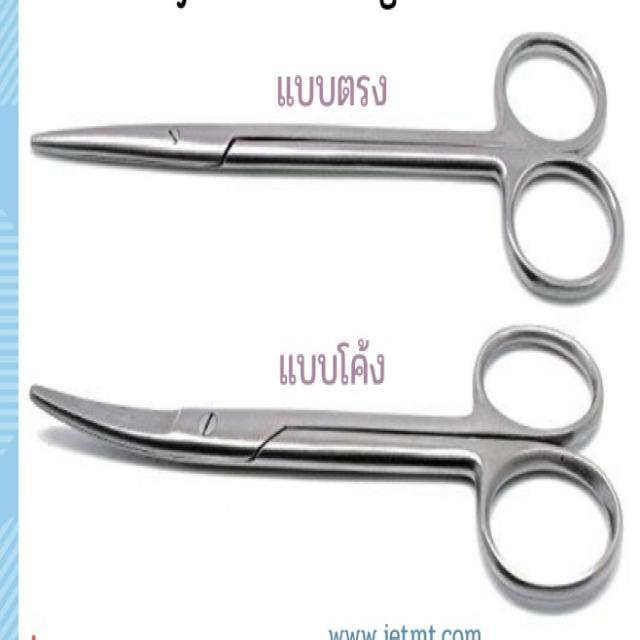Curved Mayo: (26, 321, 622, 612)
Straight Mayo: (26, 18, 625, 304)
